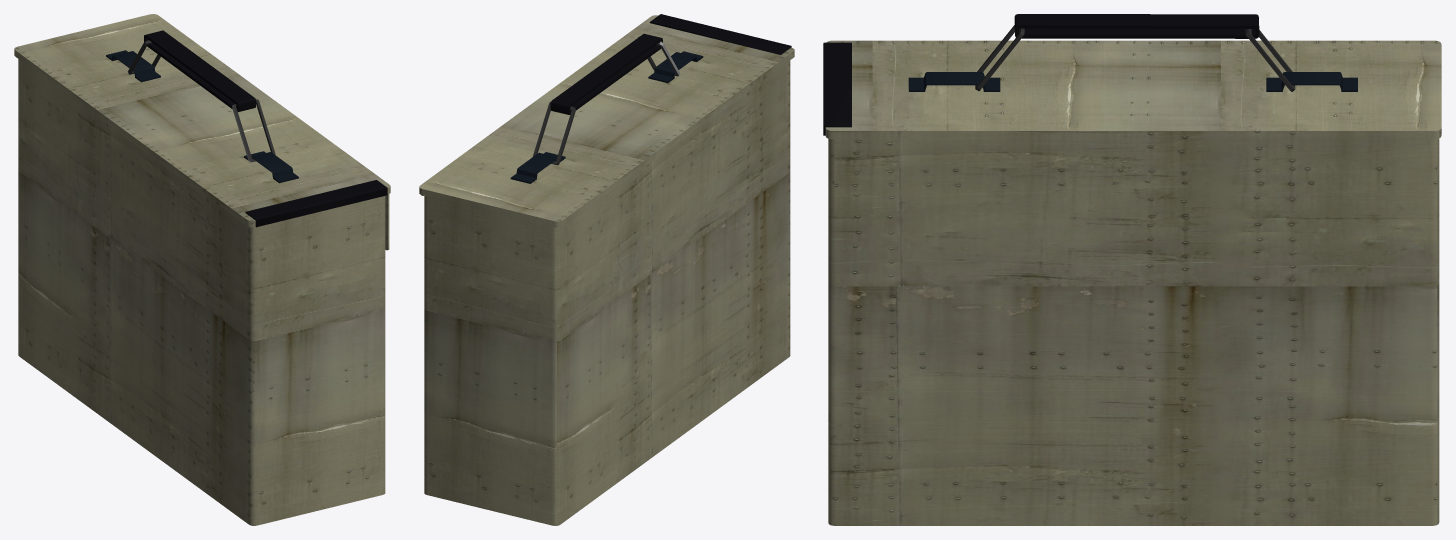
Rendered from AmmoTexturedV1.FBX.
3 renders of one model, left to right at view 1: azimuth 30°, elevation 25°; view 2: azimuth 150°, elevation 25°; view 3: azimuth 270°, elevation 25°, orthographic. The views are drawn at different scales.
Parts seen in each view (by area): view 1: Handle001, Chain; view 2: Handle001, Chain; view 3: Handle001, Chain.
Boxes of the visible parts, bbox=[...] form: Handle001: bbox=[14, 14, 390, 525]; Chain: bbox=[128, 30, 275, 162]; Handle001: bbox=[419, 14, 794, 525]; Chain: bbox=[533, 33, 679, 165]; Handle001: bbox=[823, 40, 1441, 525]; Chain: bbox=[975, 14, 1295, 91].
Size of the model in its own units: 12.89 by 30.74 by 37.2.
6 materials, 1 textured.
